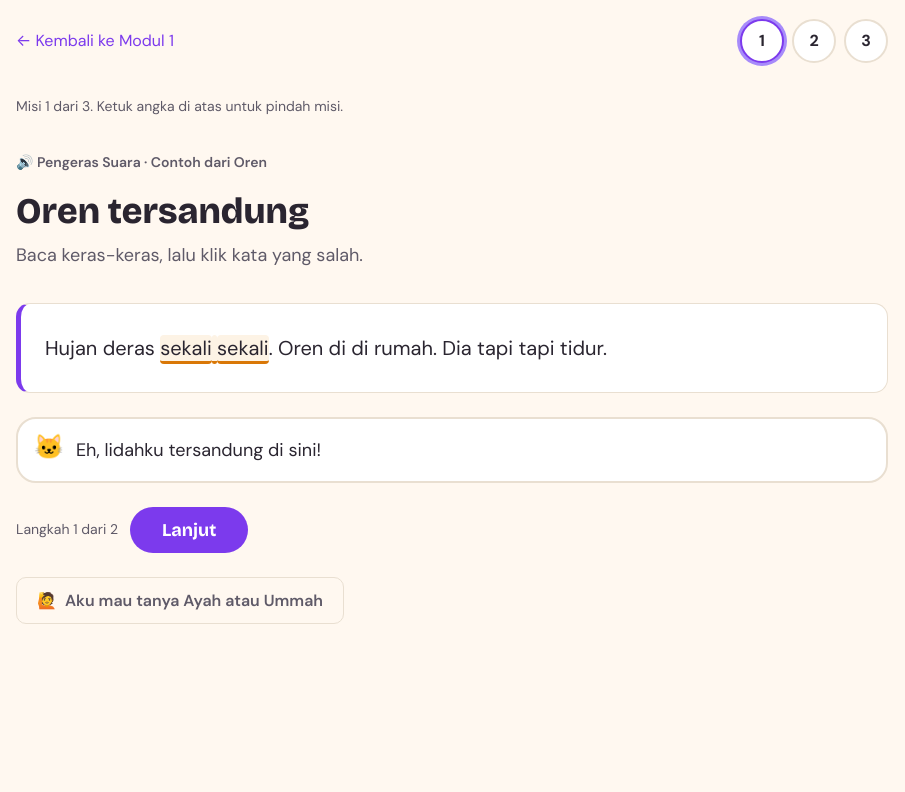
Test: Misi: Contoh dari Oren, bantuan memudar, dan suara (spec 075 K1) › contoh langkah demi langkah, lalu giliranmu: bantuan ditunjukkan, lalu letaknya, lalu sendiri
The width and height of the screenshot is (905, 792).
Expected: the text "🔊 Pengeras Suara · Contoh dari Oren" is shown, left=16, top=153, right=267, bottom=171
Expected: the text "Eh, lidahku tersandung di sini!" is shown, left=76, top=435, right=321, bottom=465
Click the button "Lanjut". click: (189, 530)
box: left=130, top=507, right=248, bottom=553
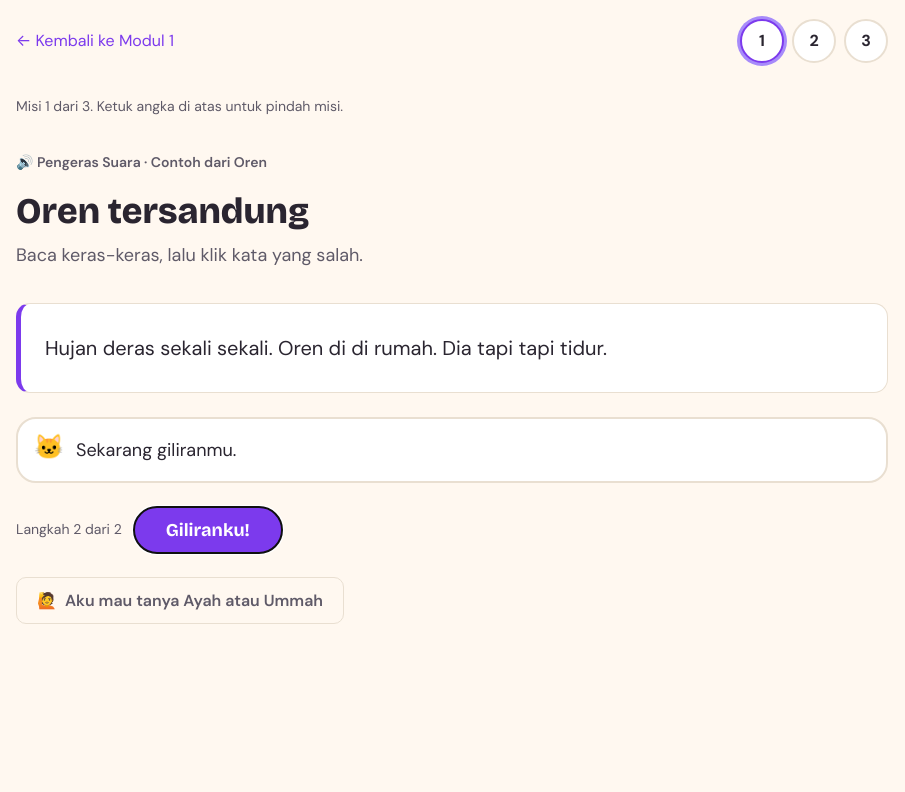
Now the text "Sekarang giliranmu." is shown, box left=76, top=435, right=236, bottom=465
Click the button "Giliranku!". click: (208, 530)
box: left=134, top=507, right=282, bottom=553
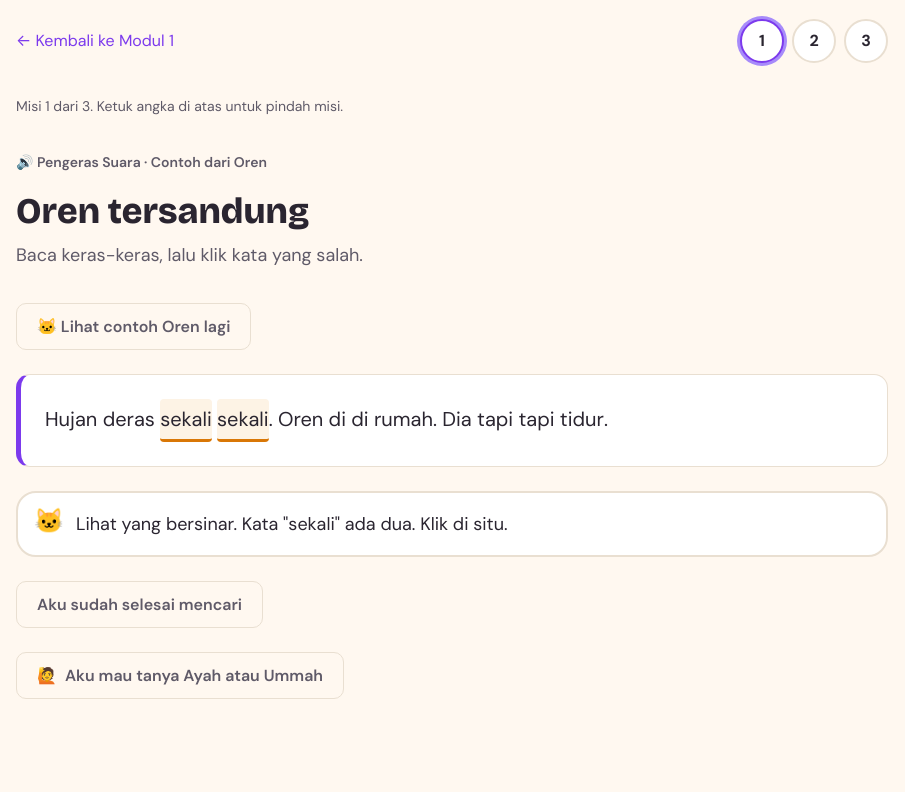
Now the element named "Bantuan Oren" shows "Kata \"sekali\" ada dua.", box left=242, top=512, right=415, bottom=536
// Bantuan 2: hanya kalimatnya.
Click the 1st button "sekali". click: (186, 420)
box: left=160, top=399, right=212, bottom=442
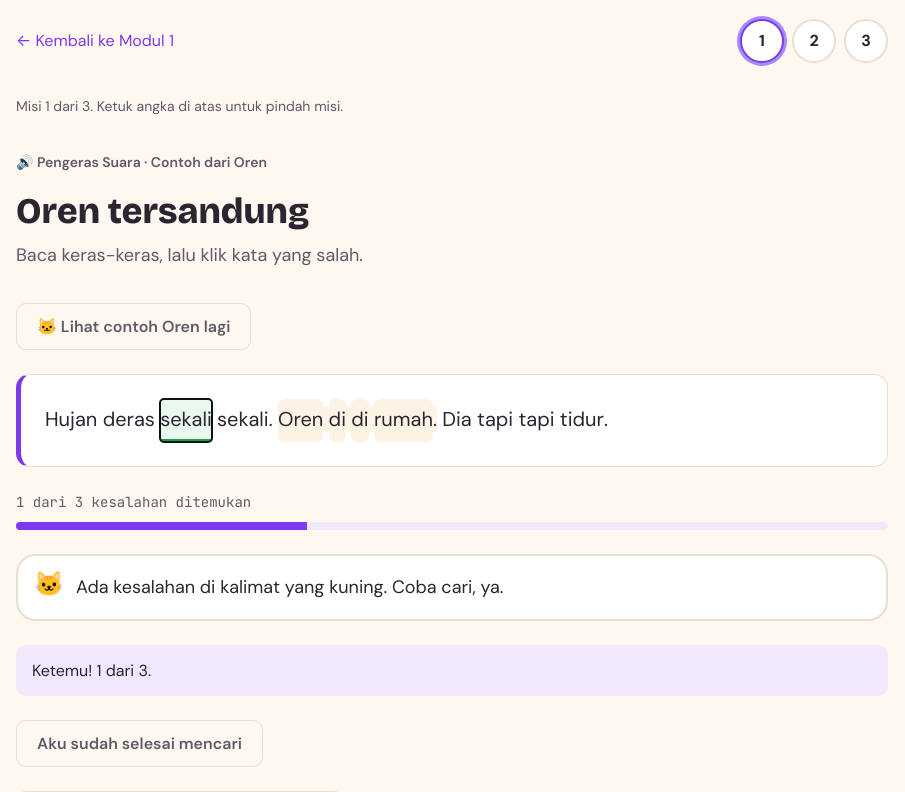
Now the text "Ada kesalahan di kalimat yang kuning. Coba cari, ya." is shown, box left=76, top=572, right=503, bottom=603
// Sisanya dicari sendiri.
Click the 1st button "di". click: (337, 420)
box: left=329, top=399, right=346, bottom=442
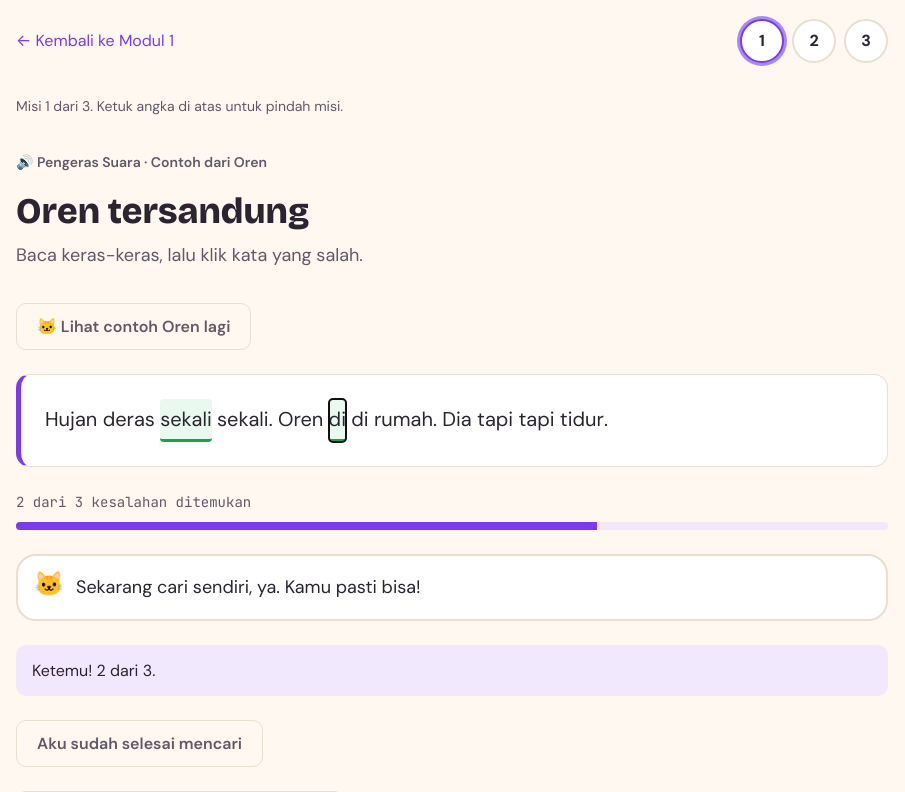
Now the text "Sekarang cari sendiri, ya. Kamu pasti bisa!" is shown, box left=76, top=572, right=420, bottom=603
